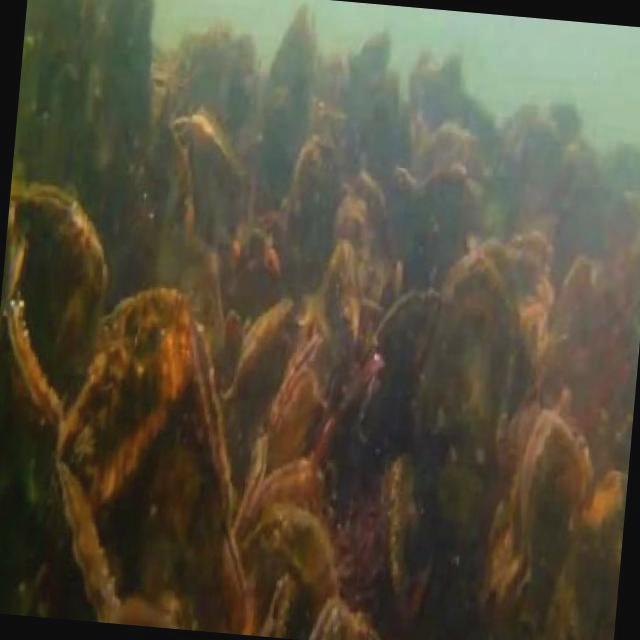Oyster-Closed: (64, 288, 252, 640), (5, 176, 110, 412), (430, 256, 522, 476), (493, 398, 595, 568), (44, 448, 122, 624), (242, 504, 352, 614), (175, 115, 265, 242), (362, 450, 416, 624), (1, 292, 62, 432), (152, 227, 230, 335), (283, 133, 347, 251), (140, 120, 206, 226), (375, 162, 435, 274), (237, 454, 335, 516), (420, 158, 474, 270), (270, 342, 326, 446), (220, 214, 284, 298), (324, 245, 376, 345), (331, 193, 384, 285), (346, 169, 394, 265), (507, 232, 565, 294), (244, 294, 286, 378), (474, 232, 530, 294), (252, 572, 300, 638), (306, 598, 360, 638)
Oyster-Open: (476, 549, 534, 633)
